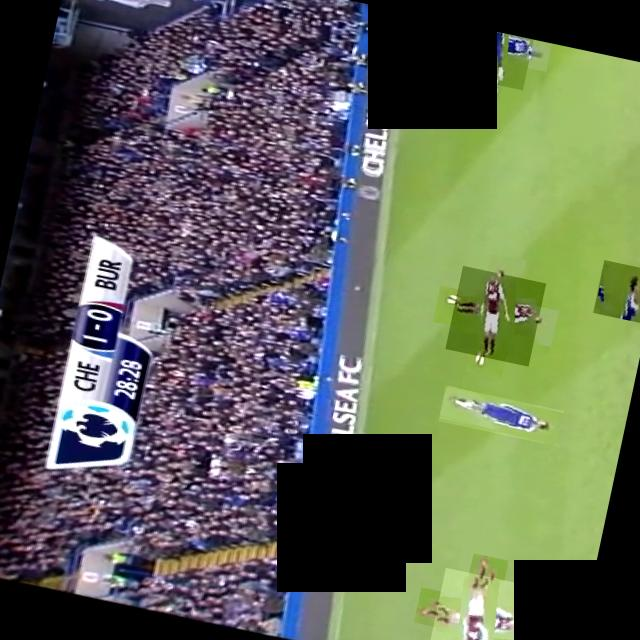soccer-player: (445, 264, 546, 366), (438, 384, 564, 444), (428, 566, 528, 640), (452, 23, 533, 89), (592, 259, 640, 323), (533, 625, 580, 640)
